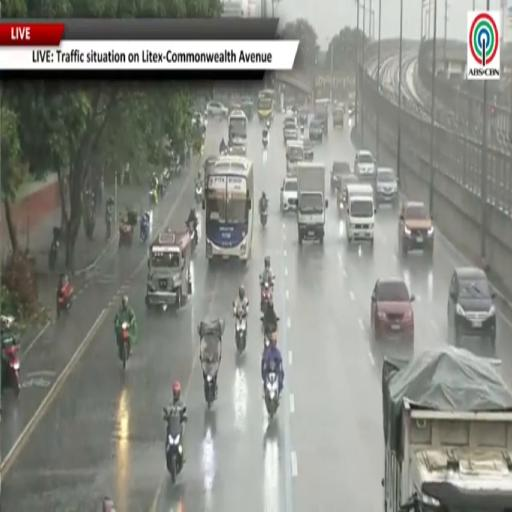bus: (203, 156, 254, 262), (228, 110, 247, 156), (258, 90, 275, 120)
car: (448, 267, 496, 345), (371, 278, 414, 343), (399, 201, 434, 257), (337, 174, 358, 216), (376, 168, 398, 203), (330, 162, 351, 194), (354, 150, 376, 180), (280, 176, 297, 213), (314, 98, 330, 136), (283, 119, 298, 143), (309, 118, 323, 142), (207, 101, 228, 117), (241, 98, 254, 120), (303, 138, 314, 161), (192, 111, 207, 127), (333, 106, 344, 127), (298, 106, 309, 125), (229, 103, 242, 115), (348, 103, 355, 117)
jeepney: (146, 231, 191, 310)
motorcycle: (198, 320, 224, 409), (164, 408, 183, 484), (2, 316, 20, 395), (265, 372, 279, 419), (57, 282, 74, 316), (235, 309, 247, 354), (49, 227, 61, 270), (260, 276, 273, 313), (204, 374, 217, 409), (121, 322, 130, 370), (262, 318, 276, 347), (186, 221, 198, 251), (140, 216, 149, 244), (106, 205, 112, 239), (102, 498, 116, 511), (195, 183, 203, 204), (149, 188, 158, 205), (260, 208, 267, 227), (262, 136, 268, 150), (220, 147, 228, 156), (265, 119, 270, 130), (301, 124, 305, 135)
tricycle: (119, 211, 138, 247)
truck: (382, 347, 511, 511), (295, 162, 328, 244)
